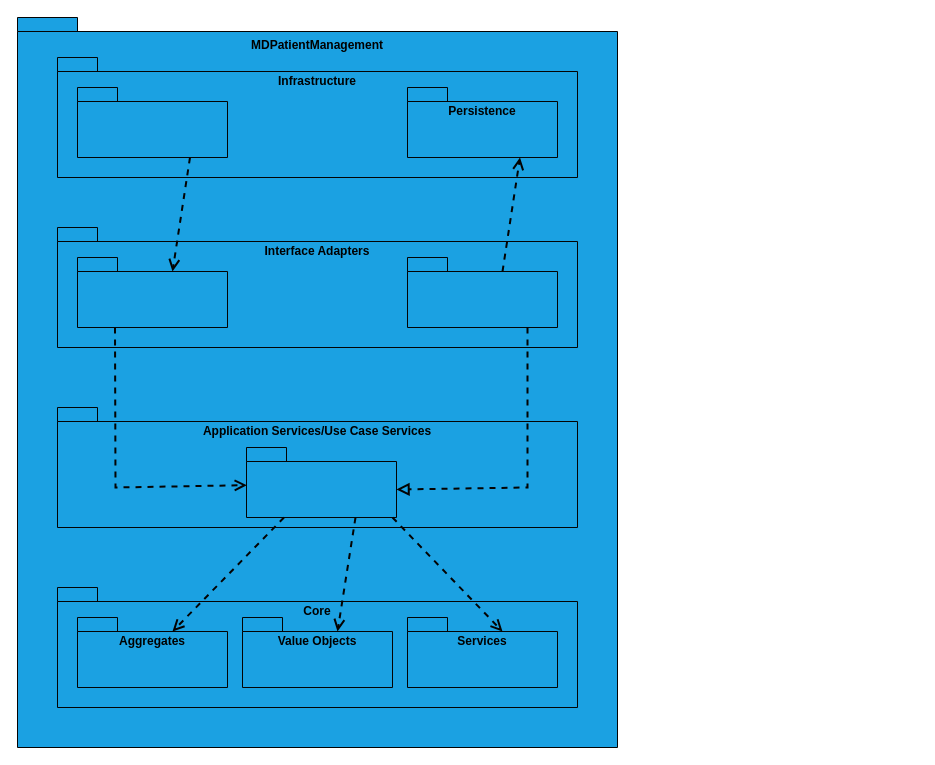
Image size: 935x765. Some labels were removed from this diagram. Here are the shapes that lost their labels. From the top down, the centre of each, then its label:
[152,122]: Routes
[152,292]: Controllers
[482,292]: Repositories
[321,482]: App Services
